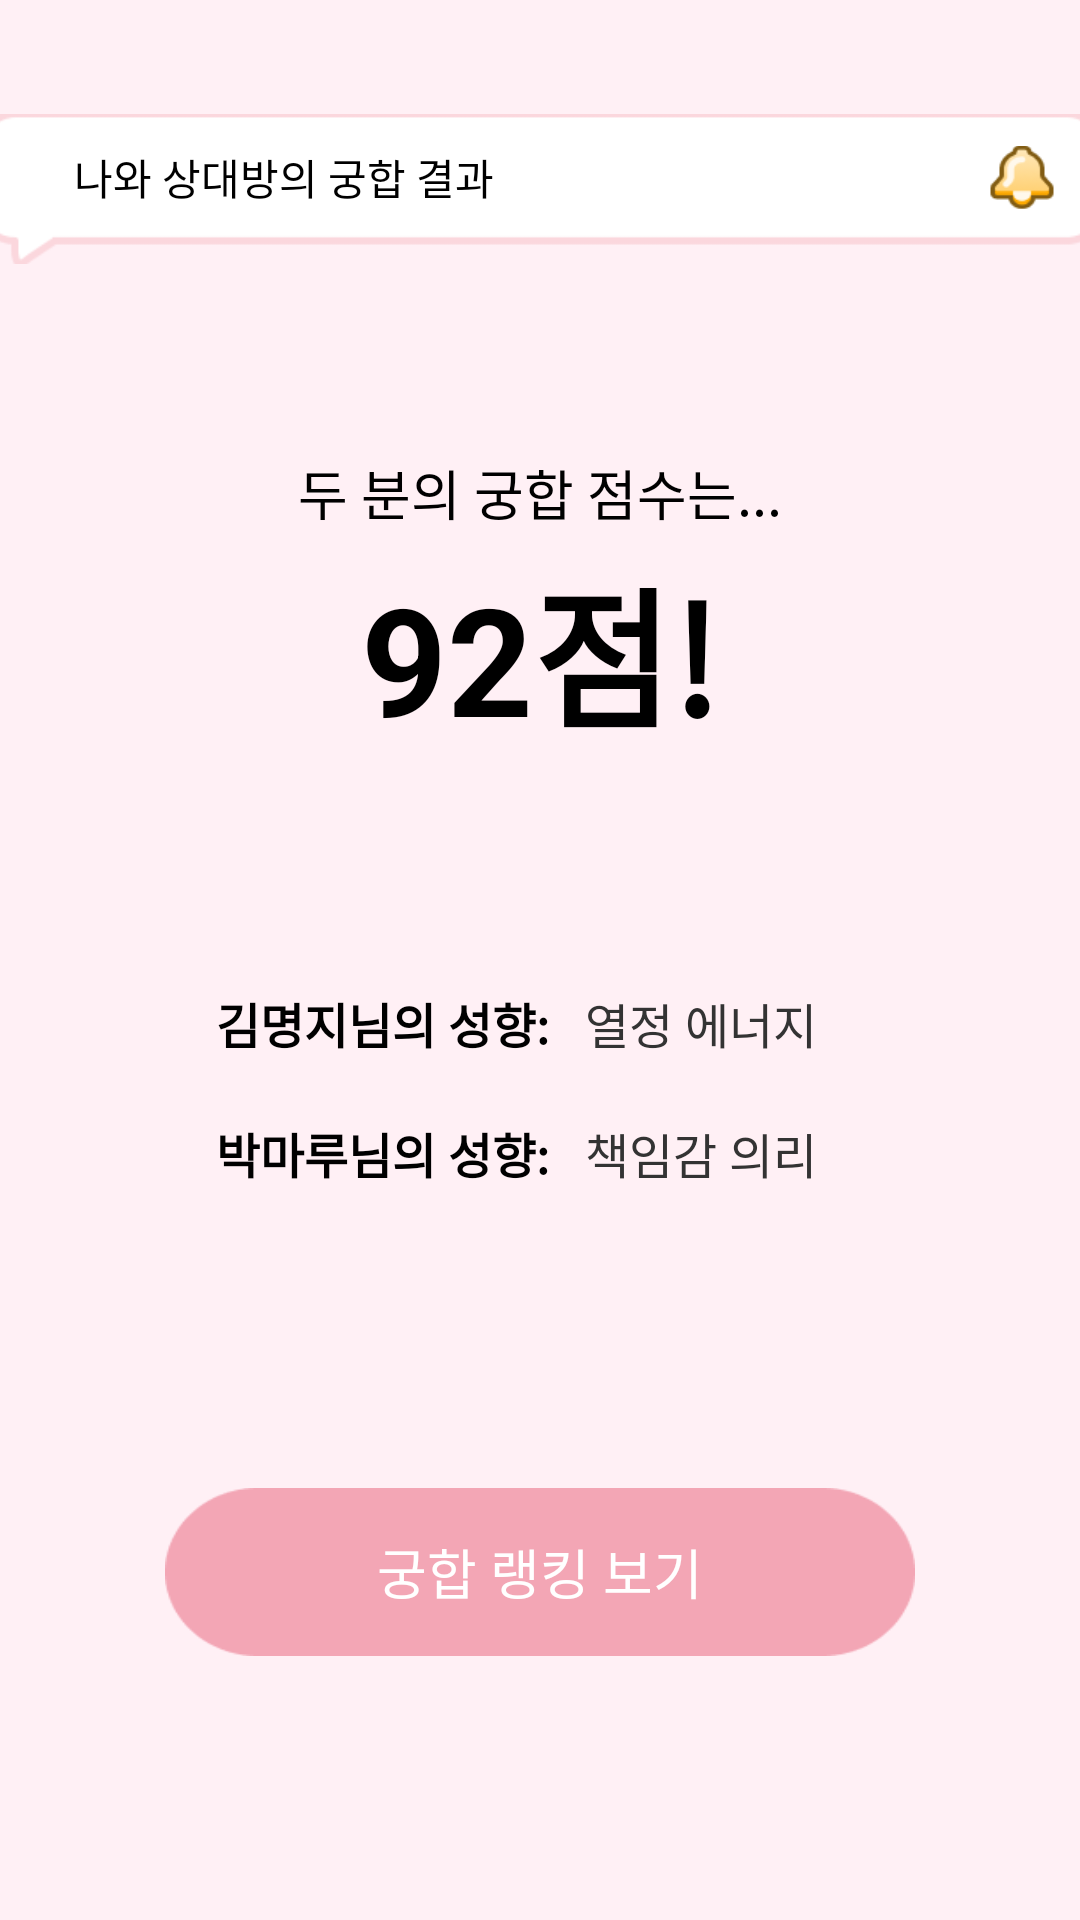

Point at icon controls on the screen. Image size 1080 × 1920, points as (x=x, y=y).
알림 아이콘: (x=1022, y=177)
